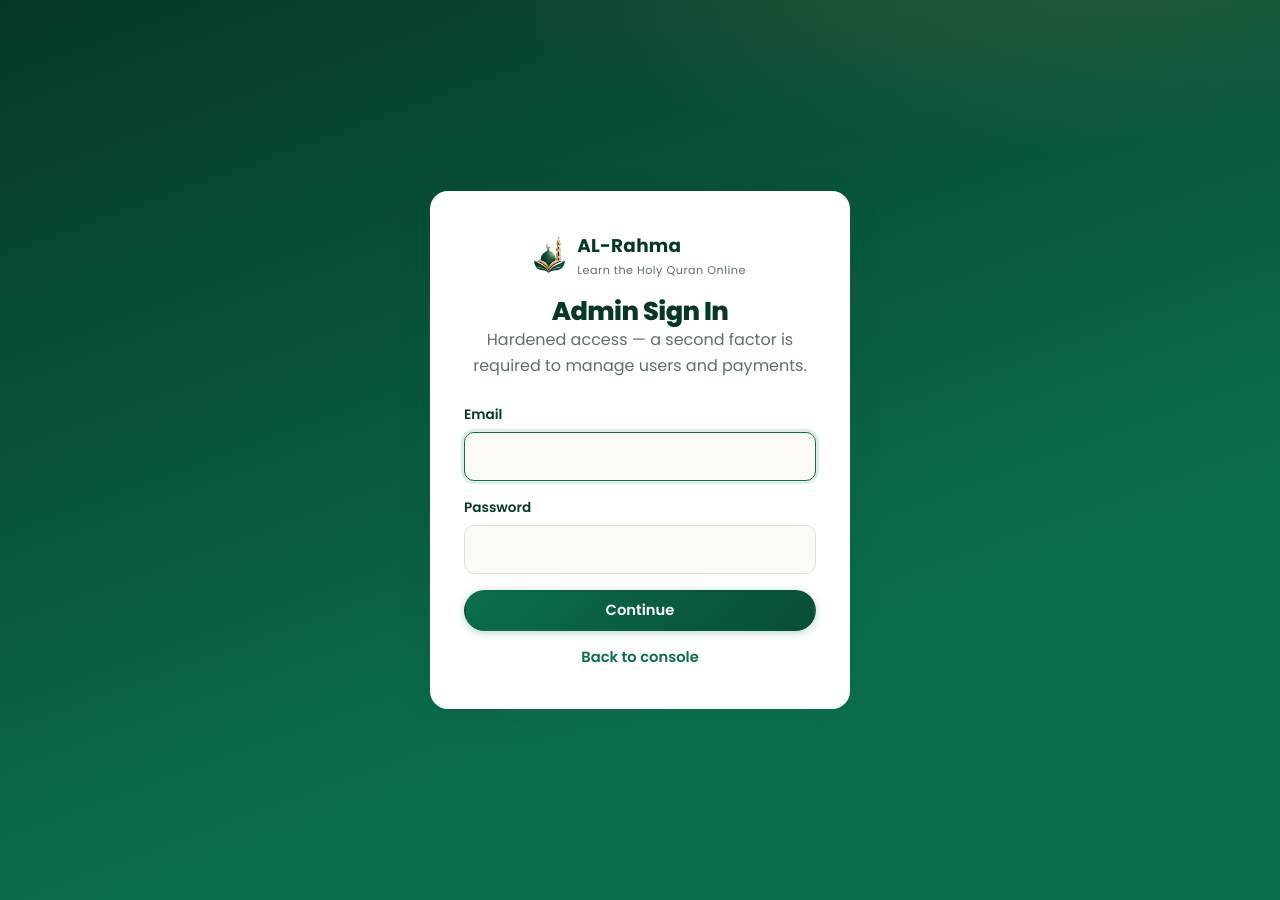
Scenario: AdminLogin › invalid TOTP (already-enrolled admin): shows an error, stays on the TOTP form, and never navigates
The width and height of the screenshot is (1280, 900).
Step 1. Type "jane@example.com" into the field labelled "Email" → (640, 456), box [464,432,816,481]
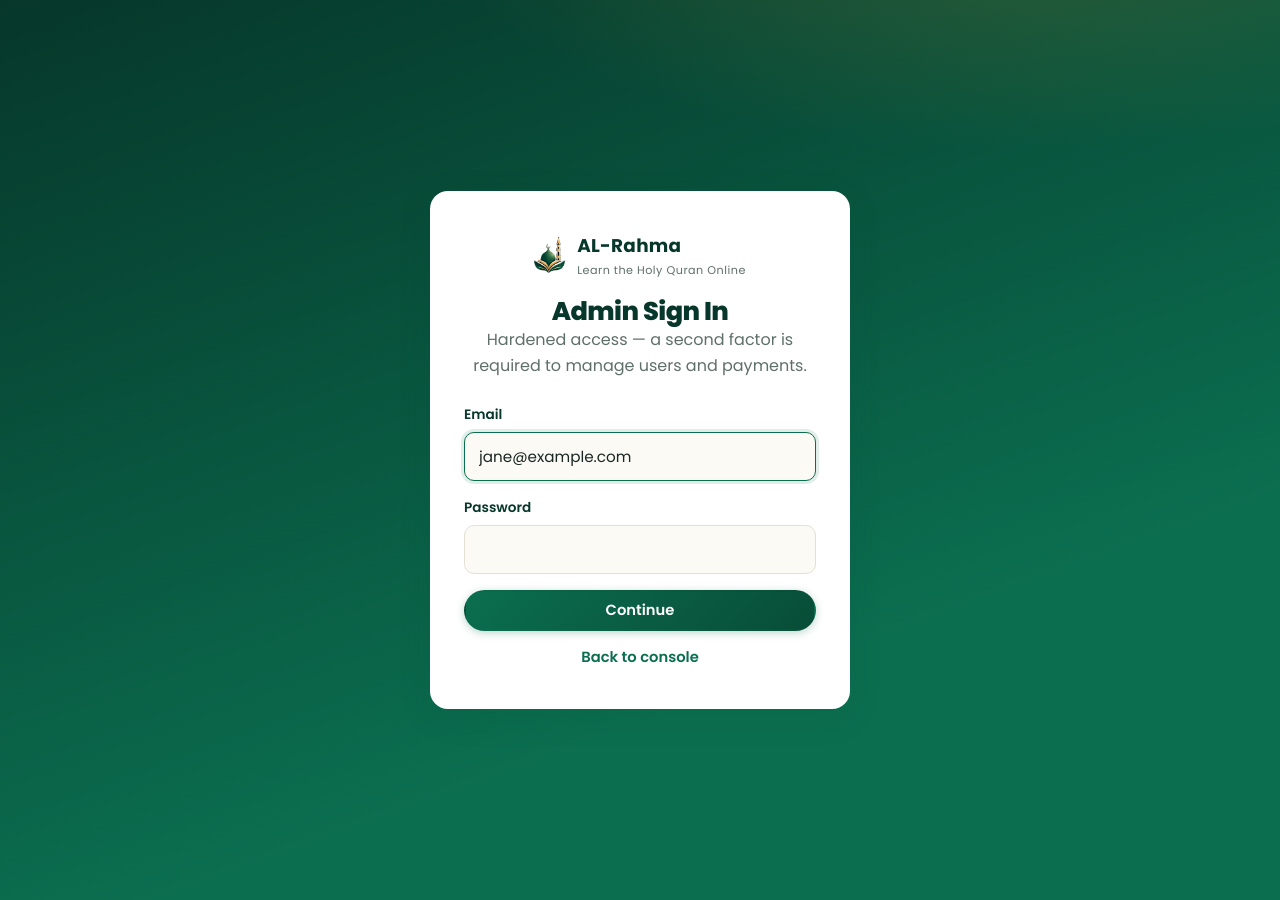
Step 2. Type "Sup3r-Str0ng-Pass!" into the password field labelled "Password" → (640, 550), box [464,525,816,574]
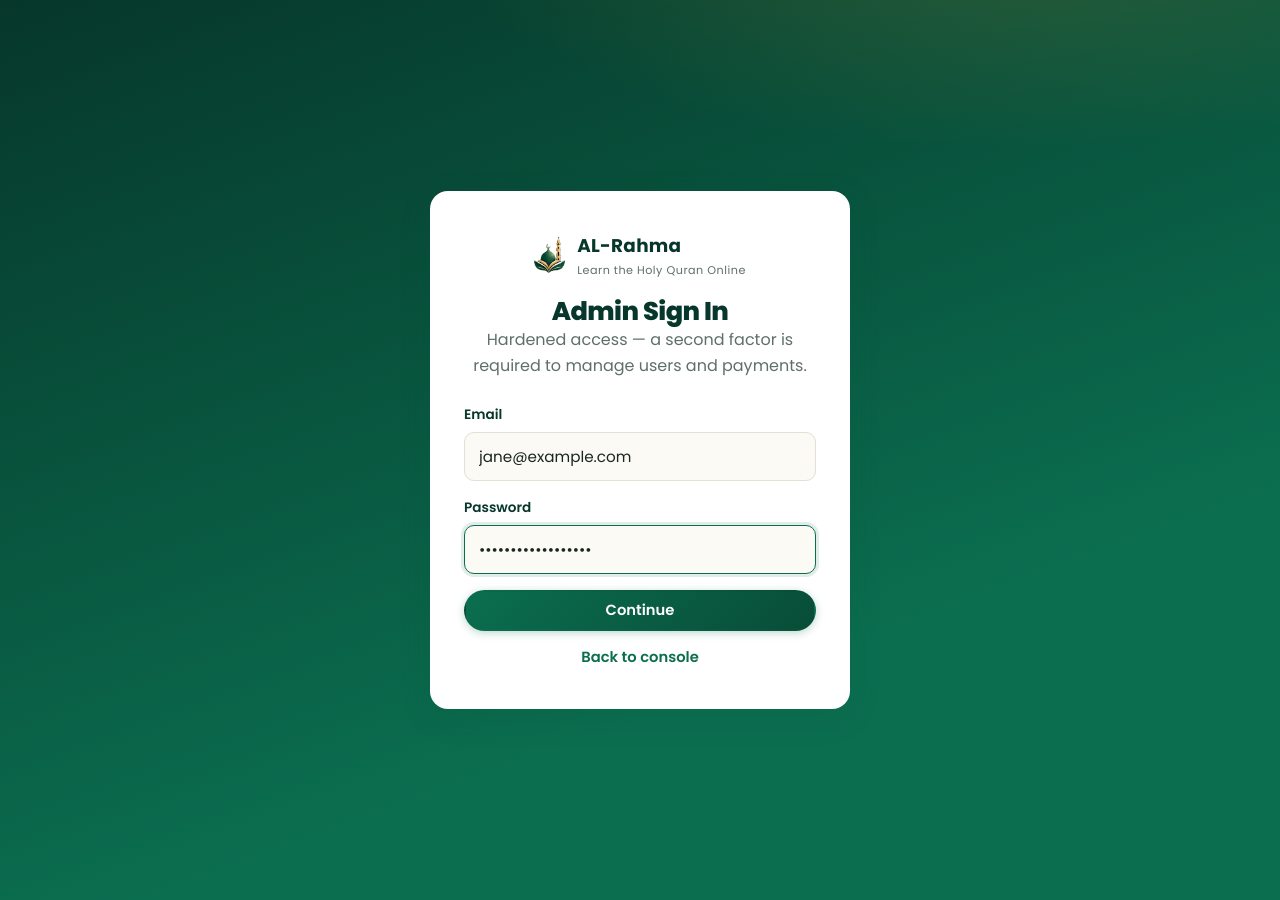
Step 3. Click the button "Continue" → (640, 611), box [464,590,816,631]
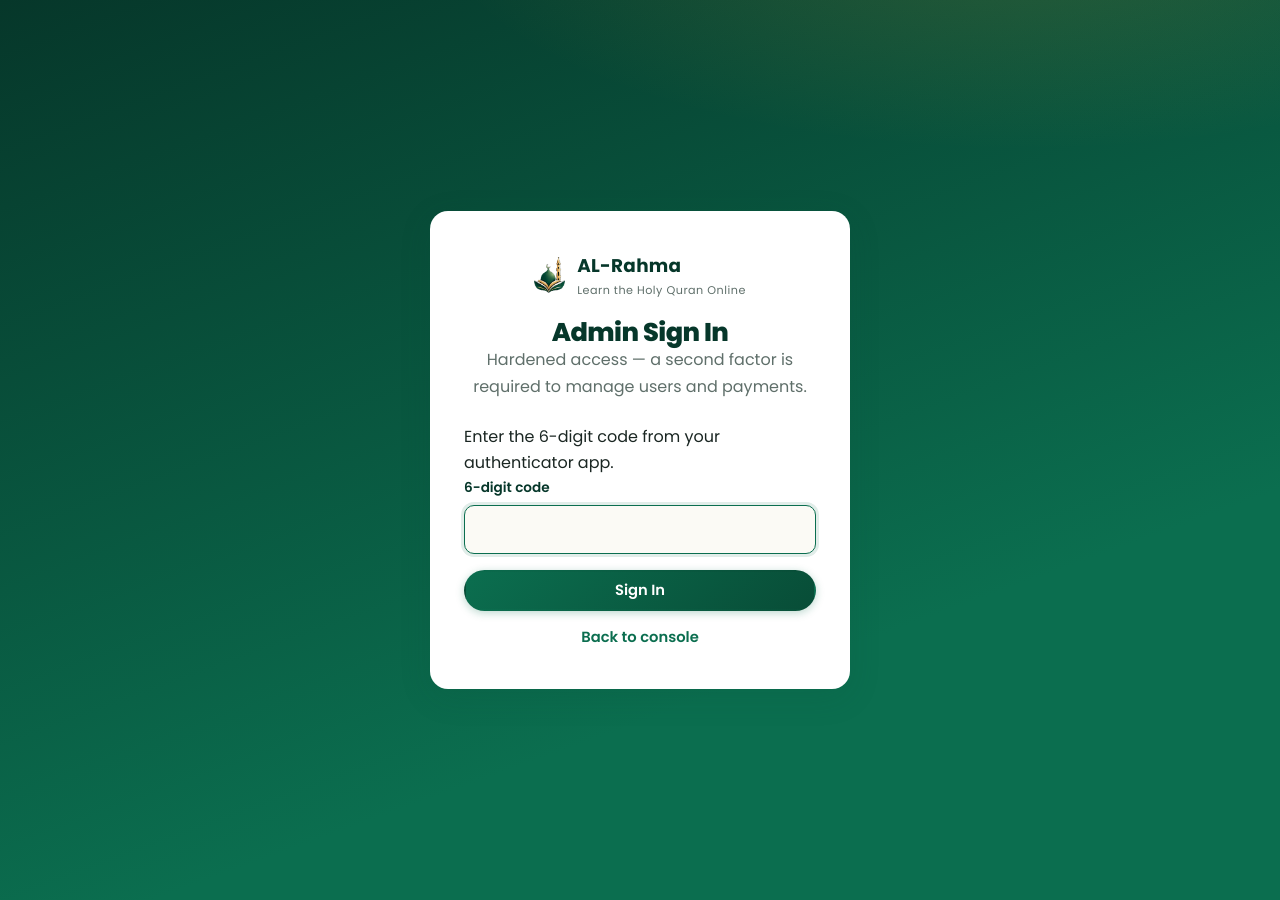
Expected: the field labelled "6-digit code" is shown
Step 4. Type "000000" into the field labelled "6-digit code" → (640, 530), box [464,505,816,554]
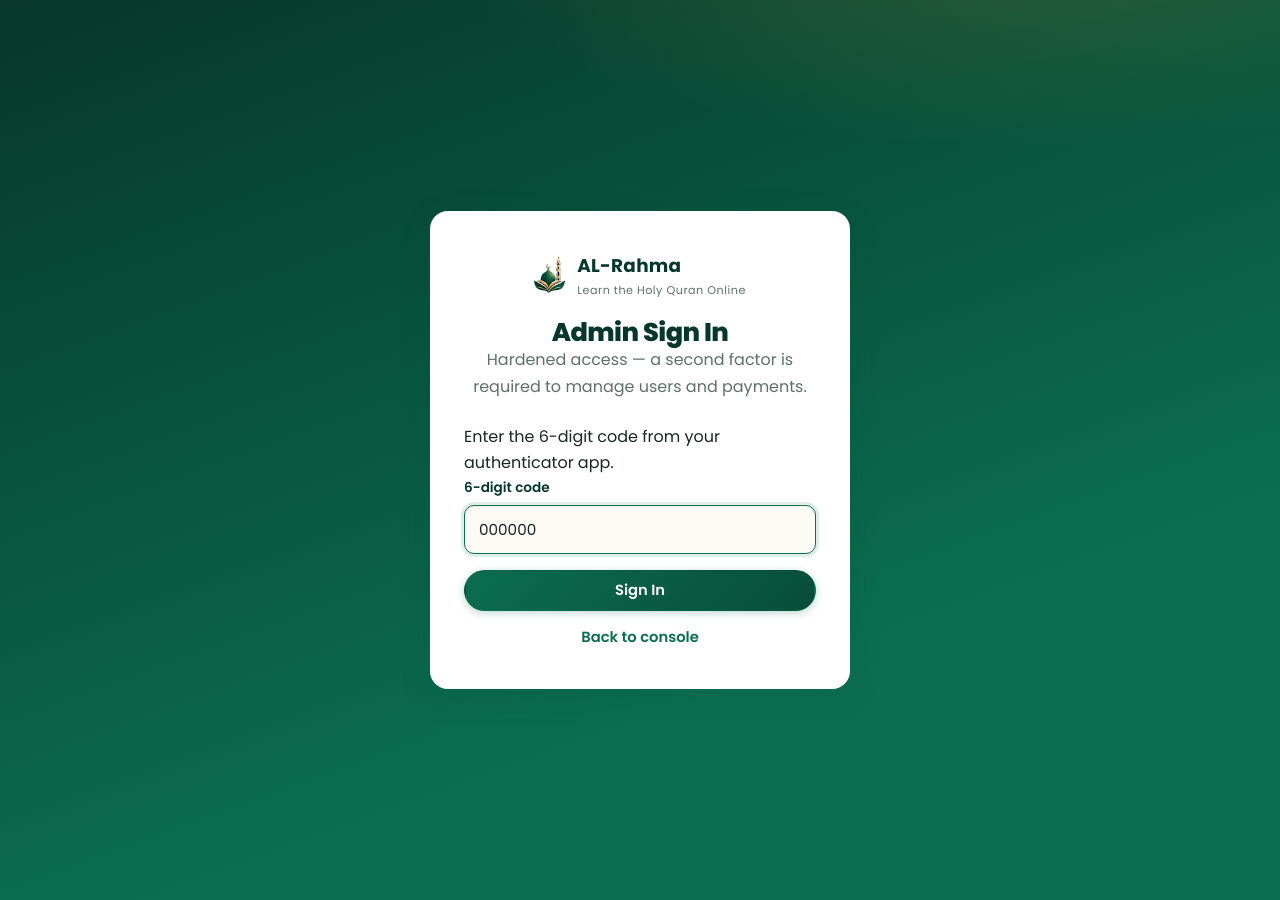
Step 5. Click the button "Sign In" → (640, 590), box [464,570,816,611]
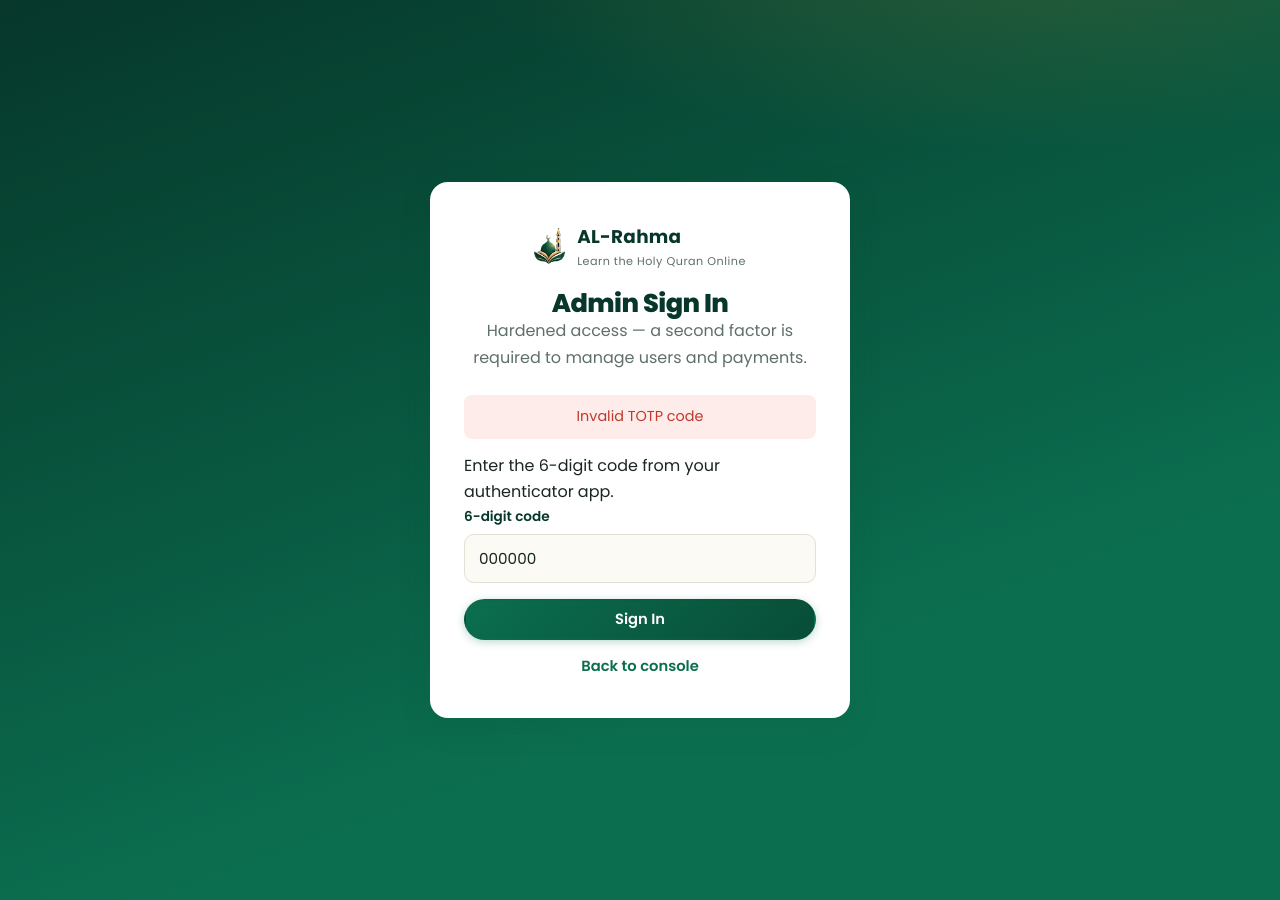
Expected: the message reads "Invalid TOTP code", [577,406,704,426]
